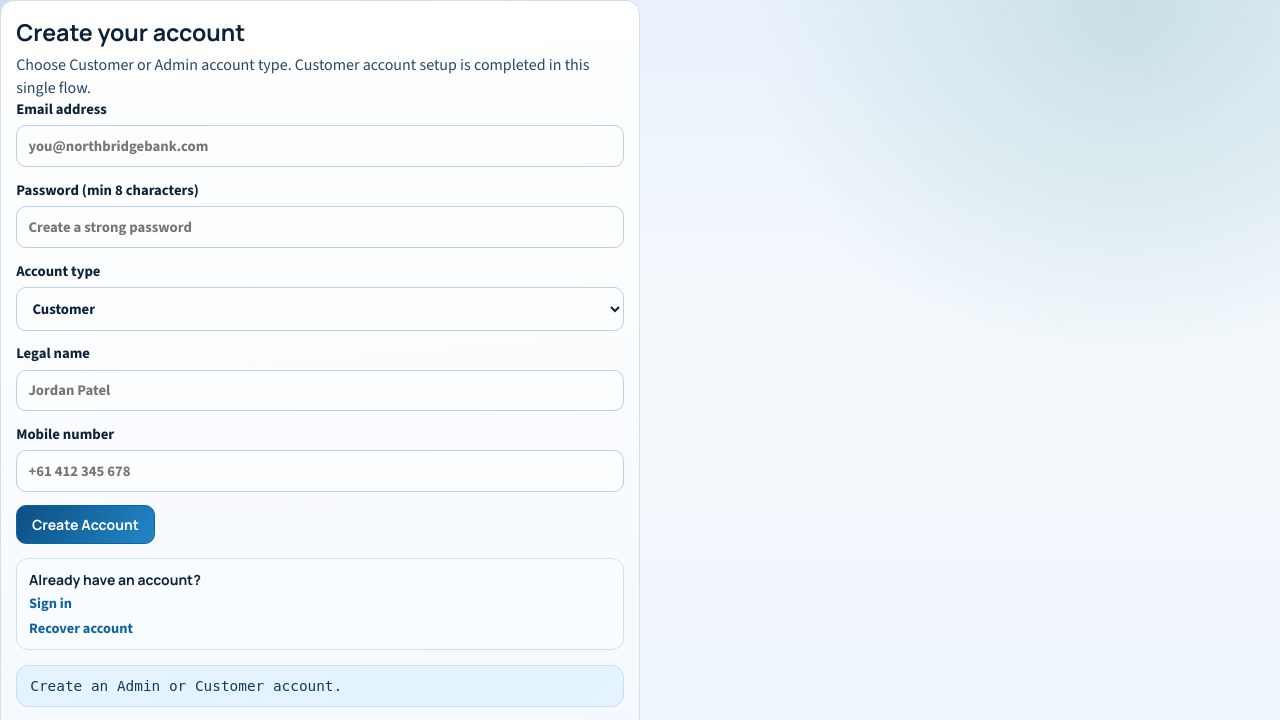
Test case: RegisterPage › shows role mismatch warning when selected role differs from signed-in role
Step 1. Type "admin2@example.com" into the field labelled "Email address" → [320, 146], box [16,126,624,167]
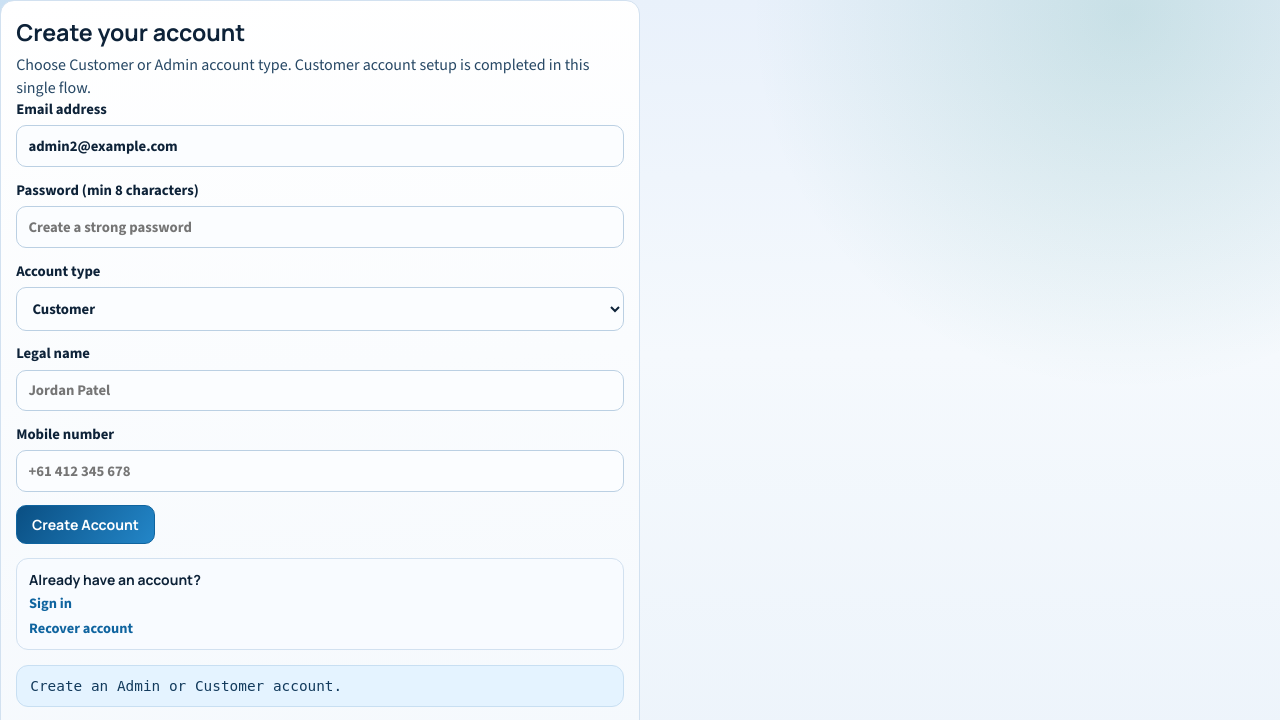
Step 2. Type "secret123" into the password field labelled "Password (min 8 characters)" → [320, 227], box [16,206,624,248]
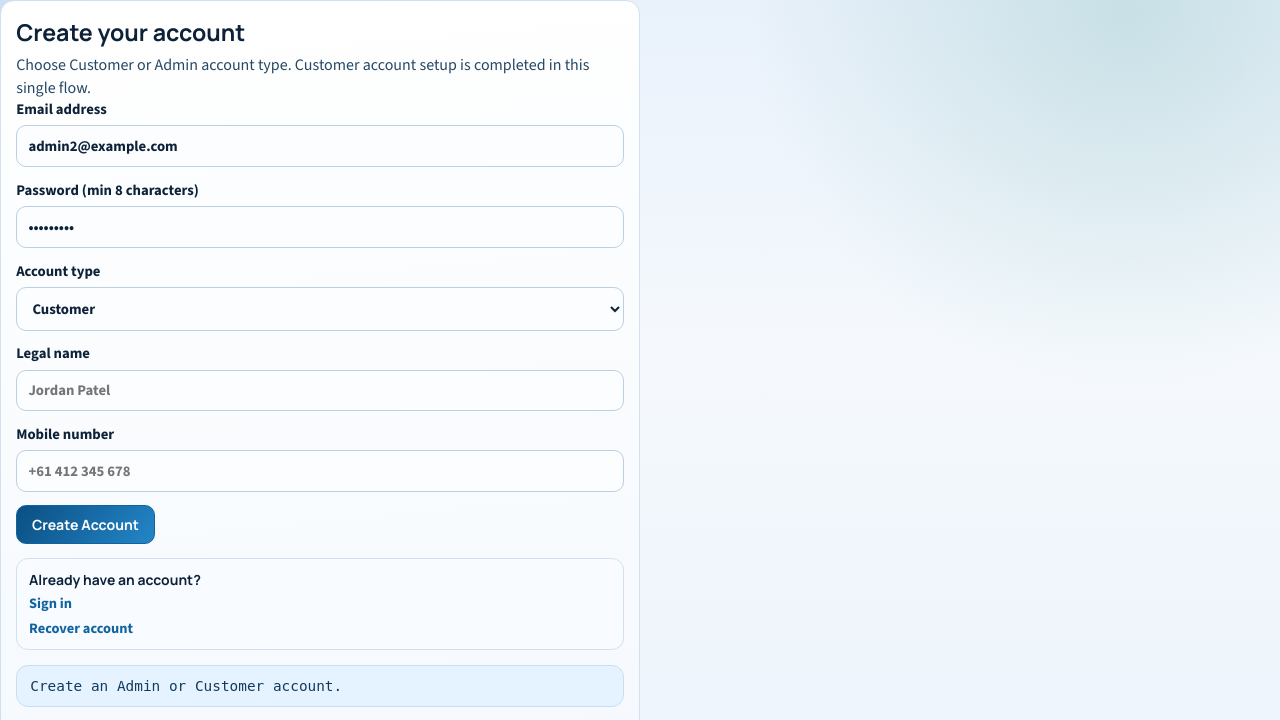
Step 3. Select "Admin" in the dropdown labelled "Account type" → [320, 309], box [16,287,624,331]
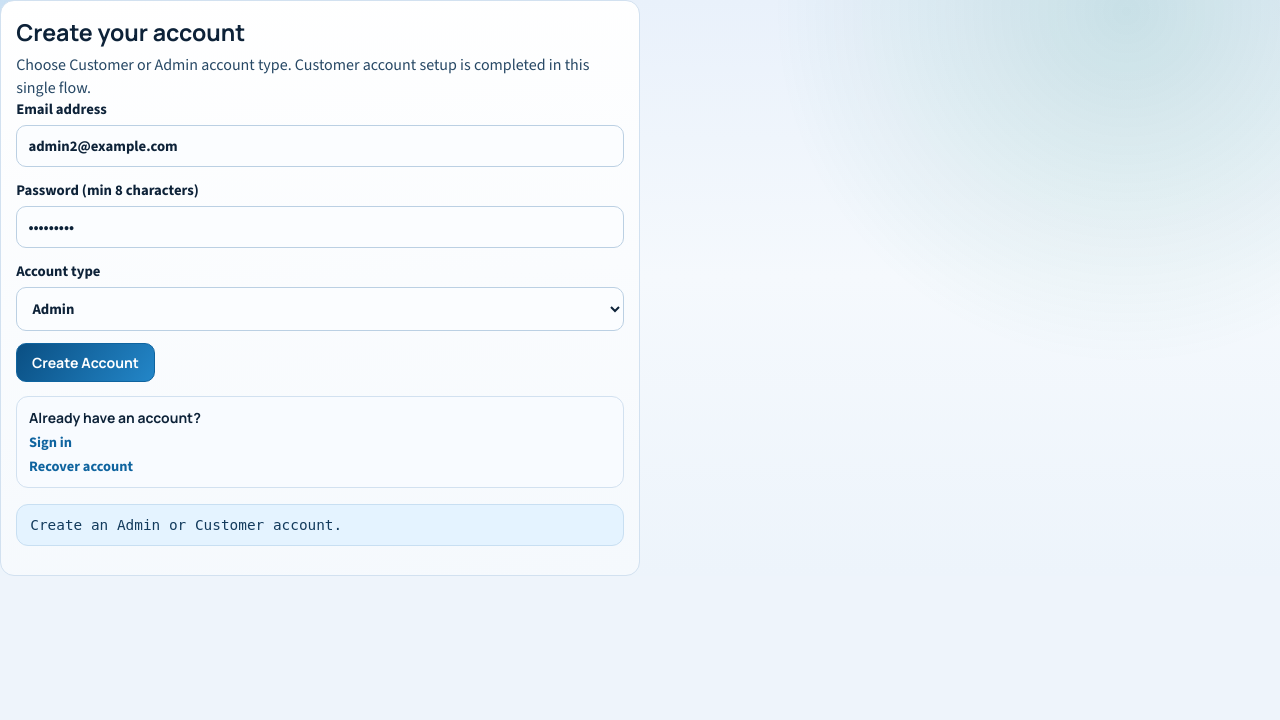
Step 4. Click the button "Create Account" → [85, 363], box [16,343,155,382]
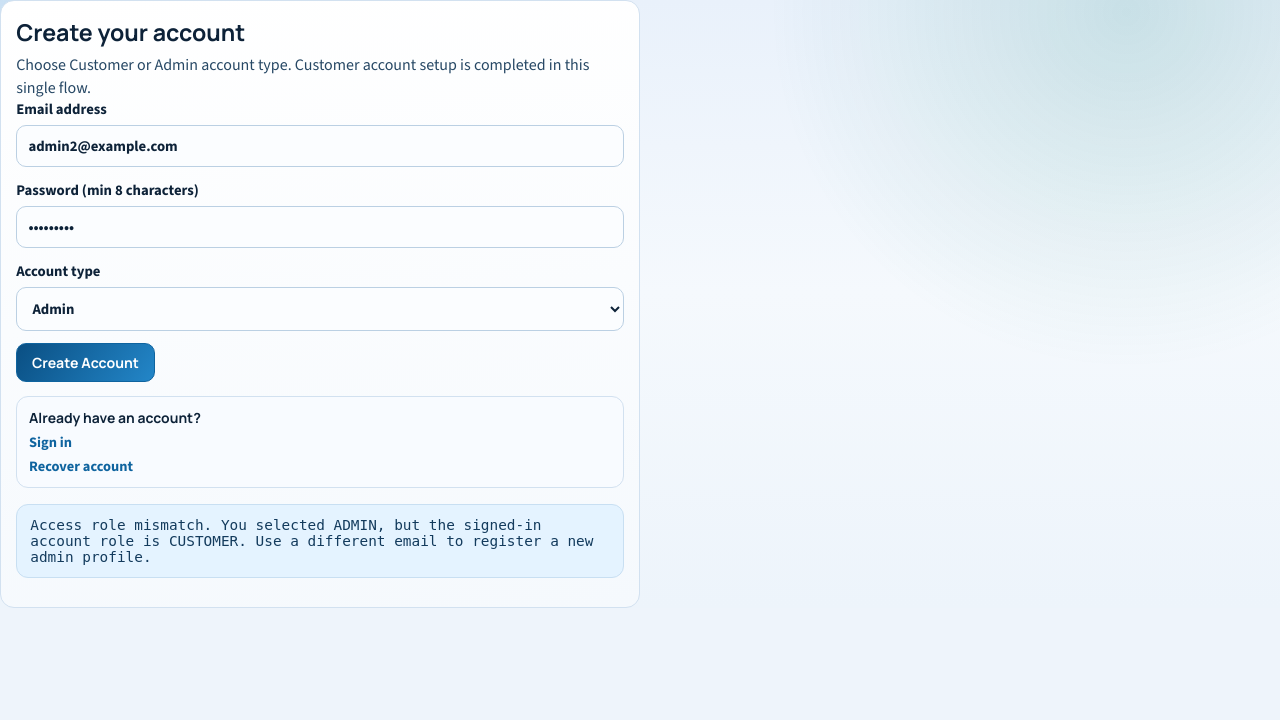
Check: the text "Access role mismatch" is shown, box [30,516,594,564]
